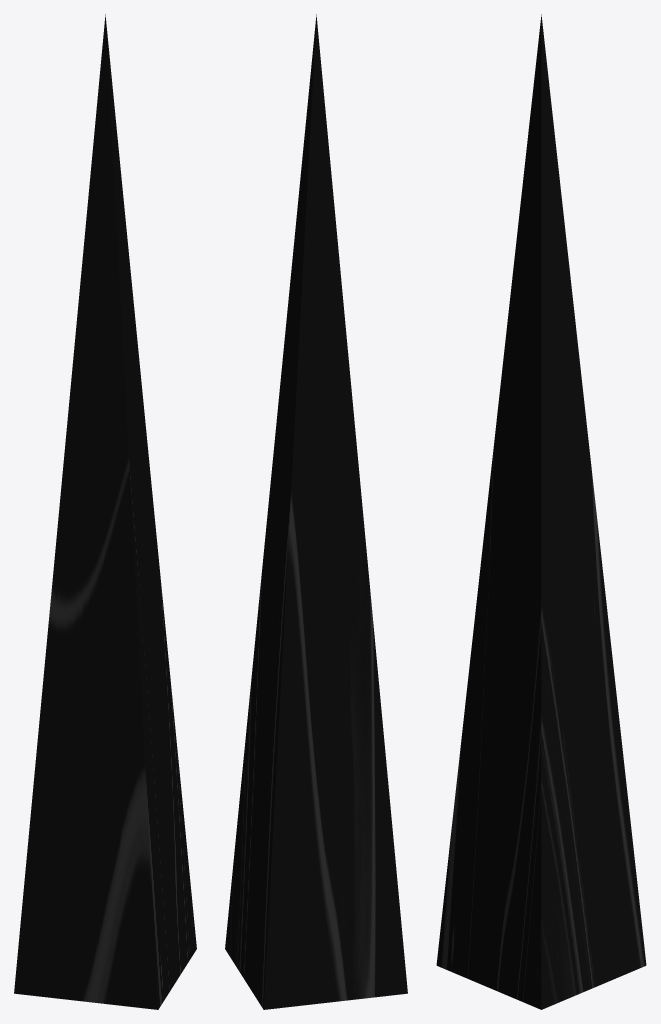
Rendered from spire2.glb.
3 views of the same model, side by side, from view 1: azimuth 30°, elevation 25°; view 2: azimuth 150°, elevation 25°; view 3: azimuth 270°, elevation 25° (orthographic).
Visible parts, largest first — view 1: Cone; view 2: Cone; view 3: Cone.
Boxes of the visible parts, bbox=[...] form: Cone: bbox=[14, 14, 196, 1009]; Cone: bbox=[225, 14, 407, 1009]; Cone: bbox=[436, 14, 646, 1009].
Size of the model in its own units: 2 by 10 by 2.
1 material, 1 textured.
